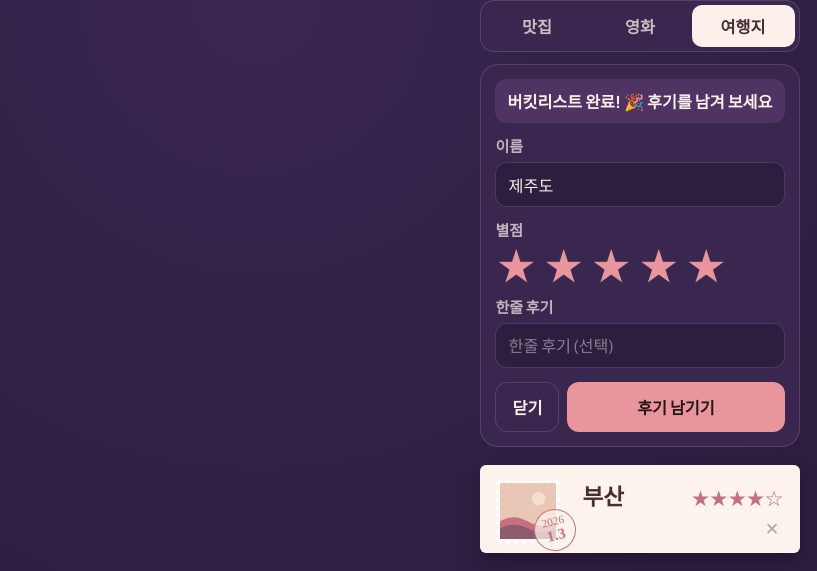
Test: Archive › opens filled in for a bucket list item that was just finished
Expected: the field with placeholder "이름을 입력하세요" holds "제주도", [496, 162, 784, 207]
Expected: the text "버킷리스트 완료! 🎉 후기를 남겨 보세요" is shown, [496, 79, 784, 123]
Click the button "후기 남기기" at (676, 406), box [567, 382, 784, 432]
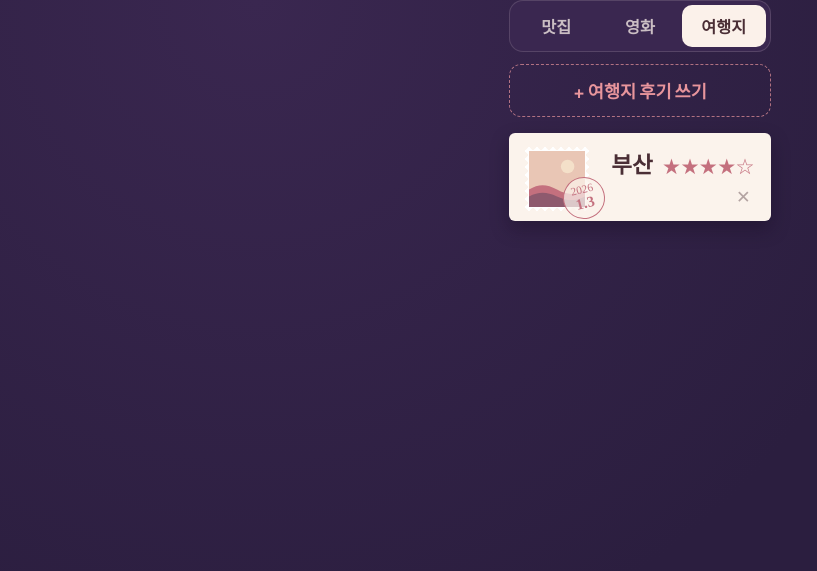
Result: the text "버킷리스트 완료" is gone
